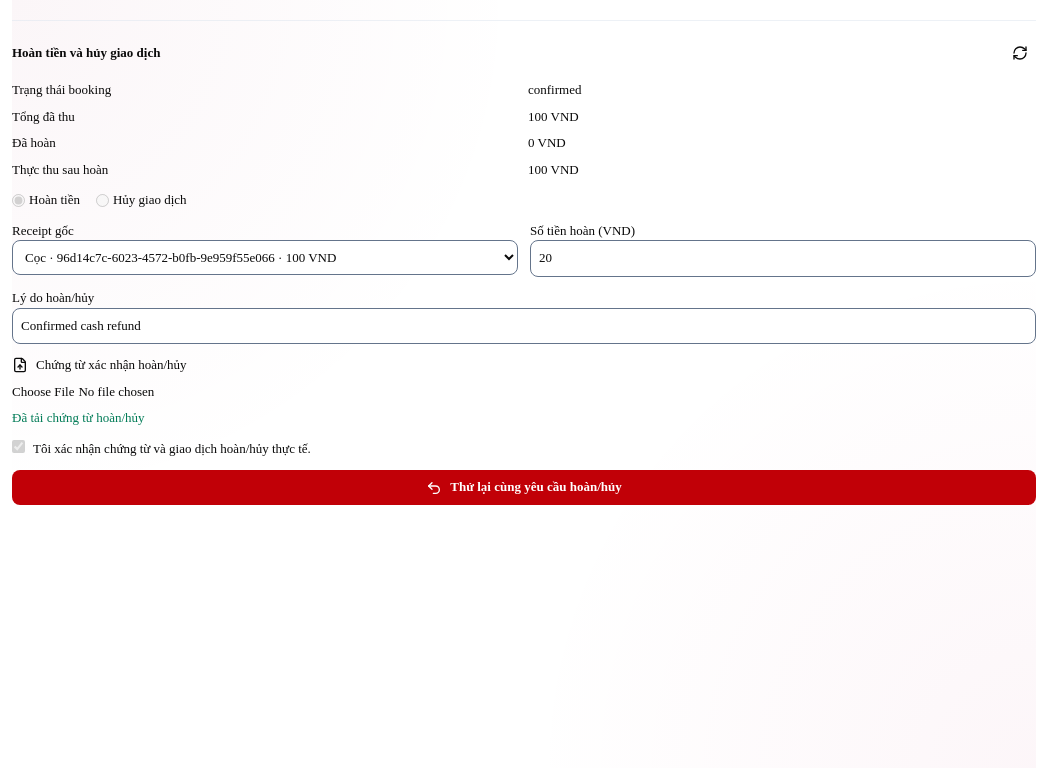
it: does not turn a malformed success response into an acknowledged financial action
Click the button "Thử lại cùng yêu cầu hoàn/hủy" at (524, 488), box [12, 470, 1036, 505]
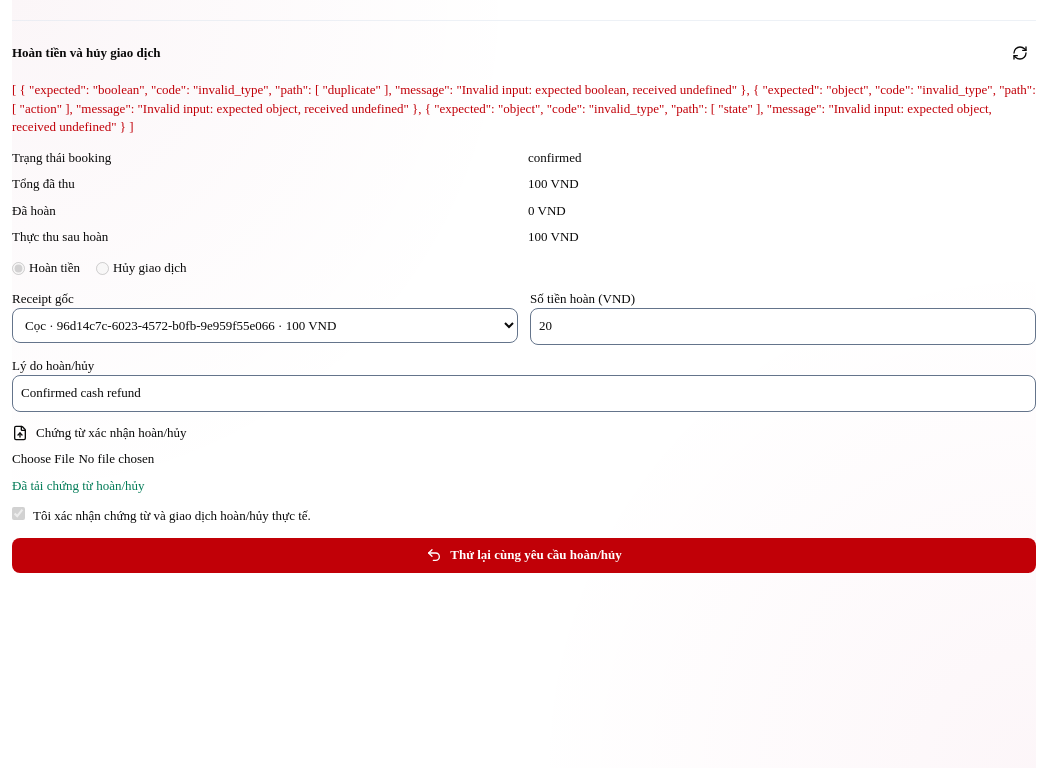
Expected: the message is shown, [12, 81, 1036, 137]
